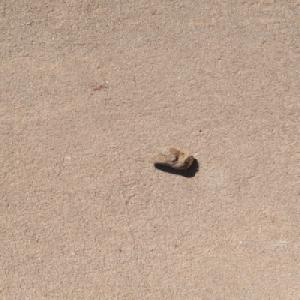Rock: (144, 146, 195, 170)
